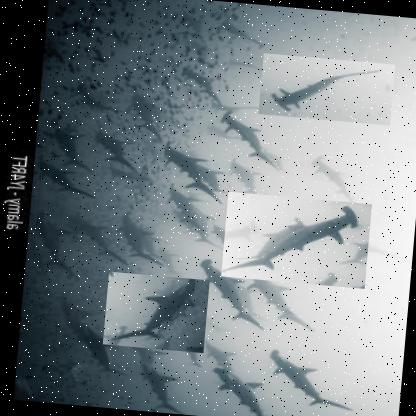hammerhead_Shark: (220, 190, 372, 288), (258, 52, 396, 124), (102, 270, 210, 352)
